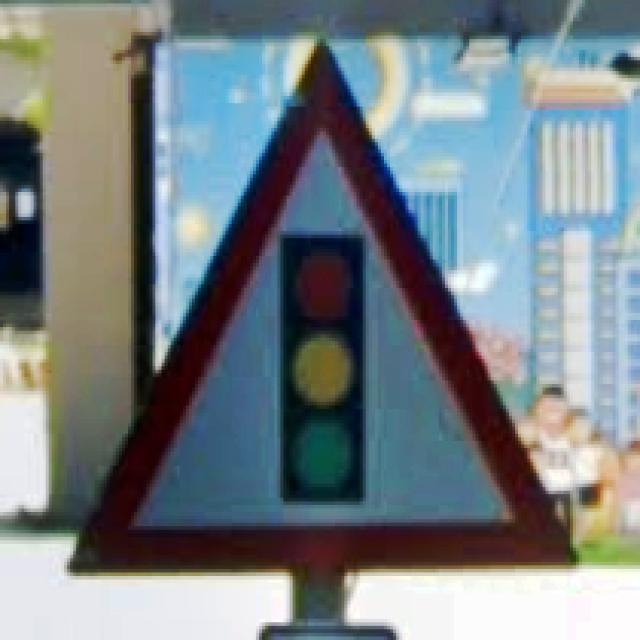signalahead: (67, 69, 569, 570)
